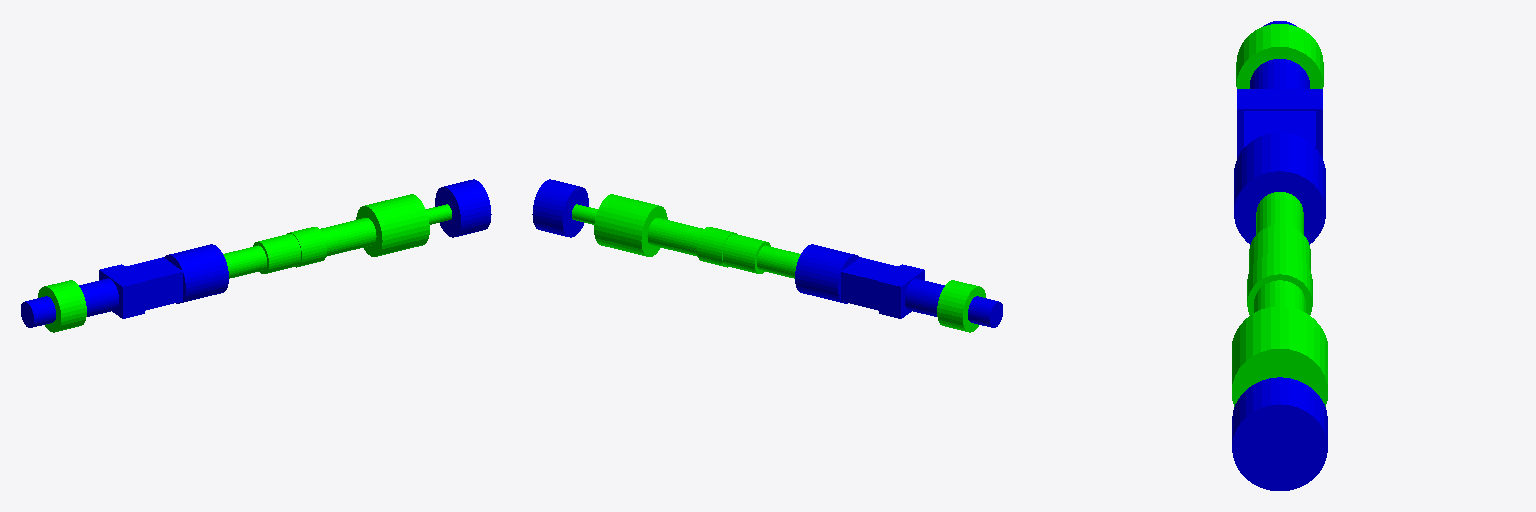
The robot description file, URDF, robot "robot":
<robot name = "robot">
    <link name="0">
        <inertial>
            <origin xyz="0.0 0.0 0.4908721964678171" rpy="0 1.57079632679 0"/>
            <mass value="1" />
            <inertia ixx="100" ixy="0" ixz="0" iyy="100" iyz="0" izz="100" />
        </inertial>
        <visual>
            <origin xyz="0.0 0.0 0.4908721964678171" rpy="0 1.57079632679 0"/>
            <geometry>
                <cylinder length="0.6270485585098232" radius="0.4694636436408375" />
            </geometry>
            <material name="Blue">
                <color rgba="0 0 1.0 1.0"/>
            </material>
        </visual>
        <collision>
            <origin xyz="0.0 0.0 0.4908721964678171" rpy="0 1.57079632679 0"/>
            <geometry>
                <cylinder length="0.6270485585098232" radius="0.4694636436408375" />
            </geometry>
        </collision>
    </link>
    <joint name="0_1" type="revolute">
       <parent link="0"/>
       <child  link="1"/>
       <origin rpy="0 0 0" xyz="-0.3135242792549116 0.0 0.4908721964678171" />
     <axis xyz="0 0 1"/>
       <limit effort="0.0" lower="-3.14159" upper="3.14159" velocity="0.0"/>
    </joint>
    <link name="1">
        <inertial>
            <origin xyz="-0.32677412239154013 0.0 0.0" rpy="0 1.57079632679 0"/>
            <mass value="1" />
            <inertia ixx="100" ixy="0" ixz="0" iyy="100" iyz="0" izz="100" />
        </inertial>
        <visual>
            <origin xyz="-0.32677412239154013 0.0 0.0" rpy="0 1.57079632679 0"/>
            <geometry>
                <cylinder length="0.6535482447830803" radius="0.14608887754069066" />
            </geometry>
            <material name="Green">
                <color rgba="0 1.0 0 1.0"/>
            </material>
        </visual>
        <collision>
            <origin xyz="-0.32677412239154013 0.0 0.0" rpy="0 1.57079632679 0"/>
            <geometry>
                <cylinder length="0.6535482447830803" radius="0.14608887754069066" />
            </geometry>
        </collision>
    </link>
    <joint name="1_2" type="revolute">
       <parent link="1"/>
       <child  link="2"/>
       <origin rpy="0 0 0" xyz="-0.6535482447830803 0.0 0.0" />
     <axis xyz="0 1 0"/>
       <limit effort="0.0" lower="-3.14159" upper="3.14159" velocity="0.0"/>
    </joint>
    <link name="2">
        <inertial>
            <origin xyz="-0.4903154956799266 0.0 0.0" rpy="0 1.57079632679 0"/>
            <mass value="1" />
            <inertia ixx="100" ixy="0" ixz="0" iyy="100" iyz="0" izz="100" />
        </inertial>
        <visual>
            <origin xyz="-0.4903154956799266 0.0 0.0" rpy="0 1.57079632679 0"/>
            <geometry>
                <cylinder length="0.9806309913598532" radius="0.4736450480299369" />
            </geometry>
            <material name="Green">
                <color rgba="0 1.0 0 1.0"/>
            </material>
        </visual>
        <collision>
            <origin xyz="-0.4903154956799266 0.0 0.0" rpy="0 1.57079632679 0"/>
            <geometry>
                <cylinder length="0.9806309913598532" radius="0.4736450480299369" />
            </geometry>
        </collision>
    </link>
    <joint name="2_3" type="revolute">
       <parent link="2"/>
       <child  link="3"/>
       <origin rpy="0 0 0" xyz="-0.9806309913598532 0.0 0.0" />
     <axis xyz="0 0 1"/>
       <limit effort="0.0" lower="-3.14159" upper="3.14159" velocity="0.0"/>
    </joint>
    <link name="3">
        <inertial>
            <origin xyz="-0.5318365923191765 0.0 0.0" rpy="0 1.57079632679 0"/>
            <mass value="1" />
            <inertia ixx="100" ixy="0" ixz="0" iyy="100" iyz="0" izz="100" />
        </inertial>
        <visual>
            <origin xyz="-0.5318365923191765 0.0 0.0" rpy="0 1.57079632679 0"/>
            <geometry>
                <cylinder length="1.063673184638353" radius="0.2567646553015063" />
            </geometry>
            <material name="Green">
                <color rgba="0 1.0 0 1.0"/>
            </material>
        </visual>
        <collision>
            <origin xyz="-0.5318365923191765 0.0 0.0" rpy="0 1.57079632679 0"/>
            <geometry>
                <cylinder length="1.063673184638353" radius="0.2567646553015063" />
            </geometry>
        </collision>
    </link>
    <joint name="3_4" type="revolute">
       <parent link="3"/>
       <child  link="4"/>
       <origin rpy="0 0 0" xyz="-1.063673184638353 0.0 0.0" />
     <axis xyz="0 1 0"/>
       <limit effort="0.0" lower="-3.14159" upper="3.14159" velocity="0.0"/>
    </joint>
    <link name="4">
        <inertial>
            <origin xyz="-0.2587492372376181 0.0 0.0" rpy="0 1.57079632679 0"/>
            <mass value="1" />
            <inertia ixx="100" ixy="0" ixz="0" iyy="100" iyz="0" izz="100" />
        </inertial>
        <visual>
            <origin xyz="-0.2587492372376181 0.0 0.0" rpy="0 1.57079632679 0"/>
            <geometry>
                <cylinder length="0.5174984744752362" radius="0.3207909465275523" />
            </geometry>
            <material name="Green">
                <color rgba="0 1.0 0 1.0"/>
            </material>
        </visual>
        <collision>
            <origin xyz="-0.2587492372376181 0.0 0.0" rpy="0 1.57079632679 0"/>
            <geometry>
                <cylinder length="0.5174984744752362" radius="0.3207909465275523" />
            </geometry>
        </collision>
    </link>
    <joint name="4_5" type="revolute">
       <parent link="4"/>
       <child  link="5"/>
       <origin rpy="0 0 0" xyz="-0.5174984744752362 0.0 0.0" />
     <axis xyz="0 0 1"/>
       <limit effort="0.0" lower="-3.14159" upper="3.14159" velocity="0.0"/>
    </joint>
    <link name="5">
        <inertial>
            <origin xyz="-0.335039807137157 0.0 0.0" rpy="0 1.57079632679 0"/>
            <mass value="1" />
            <inertia ixx="100" ixy="0" ixz="0" iyy="100" iyz="0" izz="100" />
        </inertial>
        <visual>
            <origin xyz="-0.335039807137157 0.0 0.0" rpy="0 1.57079632679 0"/>
            <geometry>
                <cylinder length="0.670079614274314" radius="0.30227471021162444" />
            </geometry>
            <material name="Green">
                <color rgba="0 1.0 0 1.0"/>
            </material>
        </visual>
        <collision>
            <origin xyz="-0.335039807137157 0.0 0.0" rpy="0 1.57079632679 0"/>
            <geometry>
                <cylinder length="0.670079614274314" radius="0.30227471021162444" />
            </geometry>
        </collision>
    </link>
    <joint name="5_6" type="revolute">
       <parent link="5"/>
       <child  link="6"/>
       <origin rpy="0 0 0" xyz="-0.670079614274314 0.0 0.0" />
     <axis xyz="0 0 1"/>
       <limit effort="0.0" lower="-3.14159" upper="3.14159" velocity="0.0"/>
    </joint>
    <link name="6">
        <inertial>
            <origin xyz="-0.4585886796048311 0.0 0.0" rpy="0 1.57079632679 0"/>
            <mass value="1" />
            <inertia ixx="100" ixy="0" ixz="0" iyy="100" iyz="0" izz="100" />
        </inertial>
        <visual>
            <origin xyz="-0.4585886796048311 0.0 0.0" rpy="0 1.57079632679 0"/>
            <geometry>
                <cylinder length="0.9171773592096621" radius="0.230115411849738" />
            </geometry>
            <material name="Green">
                <color rgba="0 1.0 0 1.0"/>
            </material>
        </visual>
        <collision>
            <origin xyz="-0.4585886796048311 0.0 0.0" rpy="0 1.57079632679 0"/>
            <geometry>
                <cylinder length="0.9171773592096621" radius="0.230115411849738" />
            </geometry>
        </collision>
    </link>
    <joint name="6_7" type="revolute">
       <parent link="6"/>
       <child  link="7"/>
       <origin rpy="0 0 0" xyz="-0.9171773592096621 0.0 0.0" />
     <axis xyz="0 1 0"/>
       <limit effort="0.0" lower="-3.14159" upper="3.14159" velocity="0.0"/>
    </joint>
    <link name="7">
        <inertial>
            <origin xyz="-0.44764068747150865 0.0 0.0" rpy="0 1.57079632679 0"/>
            <mass value="1" />
            <inertia ixx="100" ixy="0" ixz="0" iyy="100" iyz="0" izz="100" />
        </inertial>
        <visual>
            <origin xyz="-0.44764068747150865 0.0 0.0" rpy="0 1.57079632679 0"/>
            <geometry>
                <cylinder length="0.8952813749430173" radius="0.4510999009698642" />
            </geometry>
            <material name="Blue">
                <color rgba="0 0 1.0 1.0"/>
            </material>
        </visual>
        <collision>
            <origin xyz="-0.44764068747150865 0.0 0.0" rpy="0 1.57079632679 0"/>
            <geometry>
                <cylinder length="0.8952813749430173" radius="0.4510999009698642" />
            </geometry>
        </collision>
    </link>
    <joint name="7_8" type="revolute">
       <parent link="7"/>
       <child  link="8"/>
       <origin rpy="0 0 0" xyz="-0.8952813749430173 0.0 0.0" />
     <axis xyz="0 0 1"/>
       <limit effort="0.0" lower="-3.14159" upper="3.14159" velocity="0.0"/>
    </joint>
    <link name="8">
        <inertial>
            <origin xyz="-0.4108924760147685 0.0 0.0" rpy="0 0 0"/>
            <mass value="1" />
            <inertia ixx="100" ixy="0" ixz="0" iyy="100" iyz="0" izz="100" />
        </inertial>
        <visual>
            <origin xyz="-0.4108924760147685 0.0 0.0" rpy="0 0 0"/>
            <geometry>
                <box size="0.821784952029537 0.709247527606294 0.5876650639634013" />
            </geometry>
            <material name="Blue">
                <color rgba="0 0 1.0 1.0"/>
            </material>
        </visual>
        <collision>
            <origin xyz="-0.4108924760147685 0.0 0.0" rpy="0 0 0"/>
            <geometry>
                <box size="0.821784952029537 0.709247527606294 0.5876650639634013" />
            </geometry>
        </collision>
    </link>
    <joint name="8_9" type="revolute">
       <parent link="8"/>
       <child  link="9"/>
       <origin rpy="0 0 0" xyz="-0.821784952029537 0.0 0.0" />
     <axis xyz="0 1 0"/>
       <limit effort="0.0" lower="-3.14159" upper="3.14159" velocity="0.0"/>
    </joint>
    <link name="9">
        <inertial>
            <origin xyz="-0.23515256595483122 0.0 0.0" rpy="0 0 0"/>
            <mass value="1" />
            <inertia ixx="100" ixy="0" ixz="0" iyy="100" iyz="0" izz="100" />
        </inertial>
        <visual>
            <origin xyz="-0.23515256595483122 0.0 0.0" rpy="0 0 0"/>
            <geometry>
                <box size="0.47030513190966244 0.8435646209332313 0.6410366961537233" />
            </geometry>
            <material name="Blue">
                <color rgba="0 0 1.0 1.0"/>
            </material>
        </visual>
        <collision>
            <origin xyz="-0.23515256595483122 0.0 0.0" rpy="0 0 0"/>
            <geometry>
                <box size="0.47030513190966244 0.8435646209332313 0.6410366961537233" />
            </geometry>
        </collision>
    </link>
    <joint name="9_10" type="revolute">
       <parent link="9"/>
       <child  link="10"/>
       <origin rpy="0 0 0" xyz="-0.47030513190966244 0.0 0.0" />
     <axis xyz="0 1 0"/>
       <limit effort="0.0" lower="-3.14159" upper="3.14159" velocity="0.0"/>
    </joint>
    <link name="10">
        <inertial>
            <origin xyz="-0.3719667094657353 0.0 0.0" rpy="0 1.57079632679 0"/>
            <mass value="1" />
            <inertia ixx="100" ixy="0" ixz="0" iyy="100" iyz="0" izz="100" />
        </inertial>
        <visual>
            <origin xyz="-0.3719667094657353 0.0 0.0" rpy="0 1.57079632679 0"/>
            <geometry>
                <cylinder length="0.7439334189314706" radius="0.29680287905391345" />
            </geometry>
            <material name="Blue">
                <color rgba="0 0 1.0 1.0"/>
            </material>
        </visual>
        <collision>
            <origin xyz="-0.3719667094657353 0.0 0.0" rpy="0 1.57079632679 0"/>
            <geometry>
                <cylinder length="0.7439334189314706" radius="0.29680287905391345" />
            </geometry>
        </collision>
    </link>
    <joint name="10_11" type="revolute">
       <parent link="10"/>
       <child  link="11"/>
       <origin rpy="0 0 0" xyz="-0.7439334189314706 0.0 0.0" />
     <axis xyz="0 1 0"/>
       <limit effort="0.0" lower="-3.14159" upper="3.14159" velocity="0.0"/>
    </joint>
    <link name="11">
        <inertial>
            <origin xyz="-0.26665297965163404 0.0 0.0" rpy="0 1.57079632679 0"/>
            <mass value="1" />
            <inertia ixx="100" ixy="0" ixz="0" iyy="100" iyz="0" izz="100" />
        </inertial>
        <visual>
            <origin xyz="-0.26665297965163404 0.0 0.0" rpy="0 1.57079632679 0"/>
            <geometry>
                <cylinder length="0.5333059593032681" radius="0.42555643210266547" />
            </geometry>
            <material name="Green">
                <color rgba="0 1.0 0 1.0"/>
            </material>
        </visual>
        <collision>
            <origin xyz="-0.26665297965163404 0.0 0.0" rpy="0 1.57079632679 0"/>
            <geometry>
                <cylinder length="0.5333059593032681" radius="0.42555643210266547" />
            </geometry>
        </collision>
    </link>
    <joint name="11_12" type="revolute">
       <parent link="11"/>
       <child  link="12"/>
       <origin rpy="0 0 0" xyz="-0.5333059593032681 0.0 0.0" />
     <axis xyz="0 0 1"/>
       <limit effort="0.0" lower="-3.14159" upper="3.14159" velocity="0.0"/>
    </joint>
    <link name="12">
        <inertial>
            <origin xyz="-0.22861824877756207 0.0 0.0" rpy="0 1.57079632679 0"/>
            <mass value="1" />
            <inertia ixx="100" ixy="0" ixz="0" iyy="100" iyz="0" izz="100" />
        </inertial>
        <visual>
            <origin xyz="-0.22861824877756207 0.0 0.0" rpy="0 1.57079632679 0"/>
            <geometry>
                <cylinder length="0.45723649755512413" radius="0.24601941626305984" />
            </geometry>
            <material name="Blue">
                <color rgba="0 0 1.0 1.0"/>
            </material>
        </visual>
        <collision>
            <origin xyz="-0.22861824877756207 0.0 0.0" rpy="0 1.57079632679 0"/>
            <geometry>
                <cylinder length="0.45723649755512413" radius="0.24601941626305984" />
            </geometry>
        </collision>
    </link>
</robot>

--- What the picture shows (computed from the rendered views, not written in the file) ---
Views: 3 orthographic renders of the robot side by side, from view 1: azimuth 30°, elevation 25°; view 2: azimuth 150°, elevation 25°; view 3: azimuth 270°, elevation 25°.
Robot: robot — 13 links, 12 joints (12 revolute); root link 0; default pose: all joints at 0.
Visible links, largest first — view 1: 2, 7, 0, 8, 11, 9, 3, 5, 10, 6, 4, 12; view 2: 2, 7, 0, 8, 11, 9, 3, 5, 10, 6, 4, 12; view 3: 0, 7, 2, 11, 9, 4, 8, 5, 6, 10, 3.
Boxes of the visible links, box(x1,y1,x2,y2) form: 2: box(356, 194, 429, 256); 7: box(164, 244, 228, 303); 0: box(435, 179, 491, 237); 8: box(125, 257, 182, 310); 11: box(38, 280, 86, 332); 9: box(99, 264, 144, 318); 3: box(320, 218, 376, 256); 5: box(253, 234, 300, 273); 10: box(79, 278, 118, 316); 6: box(223, 245, 266, 278); 4: box(287, 227, 326, 267); 12: box(21, 296, 55, 327); 2: box(594, 194, 667, 256); 7: box(795, 244, 859, 303); 0: box(532, 179, 588, 237); 8: box(841, 257, 898, 310); 11: box(937, 280, 985, 332); 9: box(879, 264, 924, 318); 3: box(647, 218, 703, 256); 5: box(723, 234, 770, 273); 10: box(905, 278, 944, 316); 6: box(757, 245, 800, 278); 4: box(697, 227, 736, 267); 12: box(968, 296, 1002, 327); 0: box(1232, 377, 1327, 490); 7: box(1234, 132, 1325, 244); 2: box(1232, 306, 1327, 406); 11: box(1236, 24, 1323, 88); 9: box(1237, 89, 1322, 157); 4: box(1247, 252, 1312, 314); 8: box(1244, 111, 1315, 147); 5: box(1249, 225, 1310, 270); 6: box(1256, 192, 1303, 234); 10: box(1250, 59, 1309, 88); 3: box(1254, 280, 1305, 312).
Size in the robot's own frame: 9.35 by 0.9473 by 0.9473 metres.
Geometry: primitives only (box / cylinder / sphere), no mesh files.